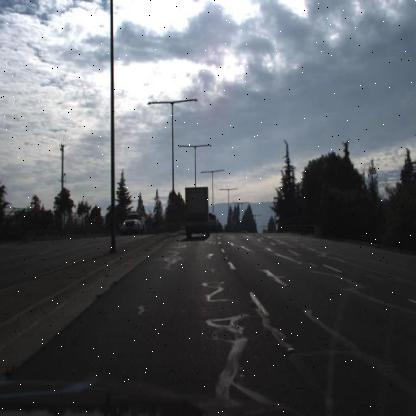car: (121, 211, 146, 237), (207, 211, 218, 231), (241, 228, 248, 236)
truck: (183, 186, 209, 242)
